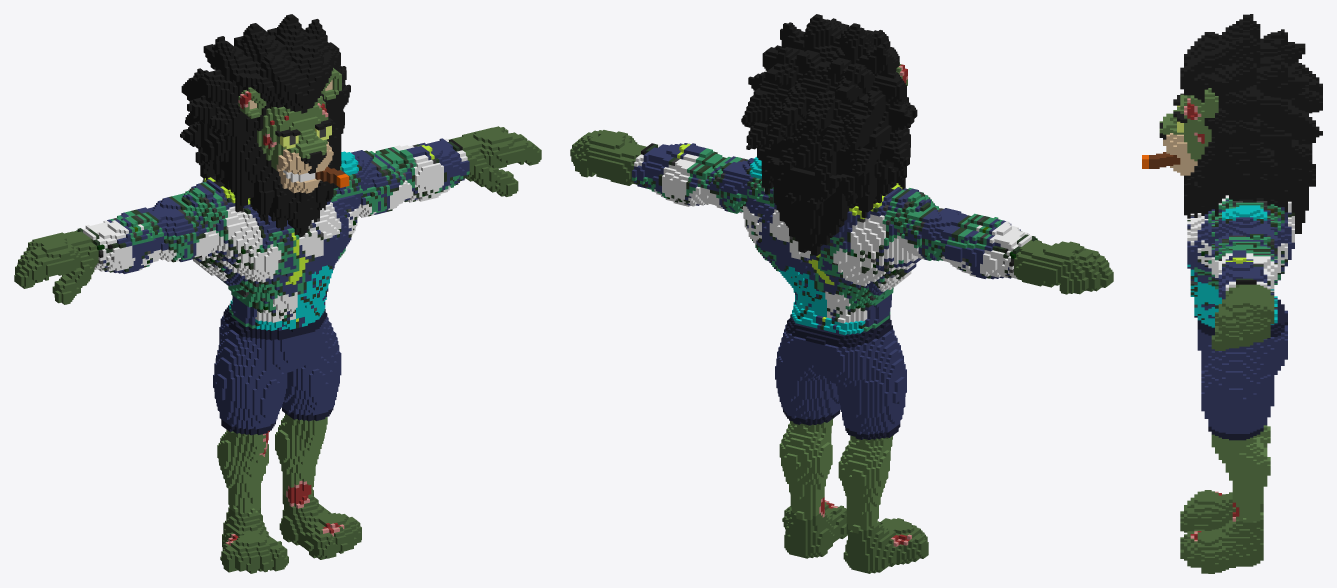
Rendered from 433-CBLJBoAH.fbx.
3 views of the same model, side by side, from view 1: azimuth 30°, elevation 25°; view 2: azimuth 150°, elevation 25°; view 3: azimuth 270°, elevation 25° (orthographic). The views are drawn at different scales.
Parts seen in each view (by area): view 1: cigar; view 2: cigar; view 3: cigar.
Boxes of the visible parts, bbox=[...] form: cigar: bbox=[14, 14, 541, 573]; cigar: bbox=[570, 14, 1113, 573]; cigar: bbox=[1142, 14, 1322, 573].
Size of the model in its own units: 17.2 by 16.5 by 5.2.
5 materials, 5 textured.
